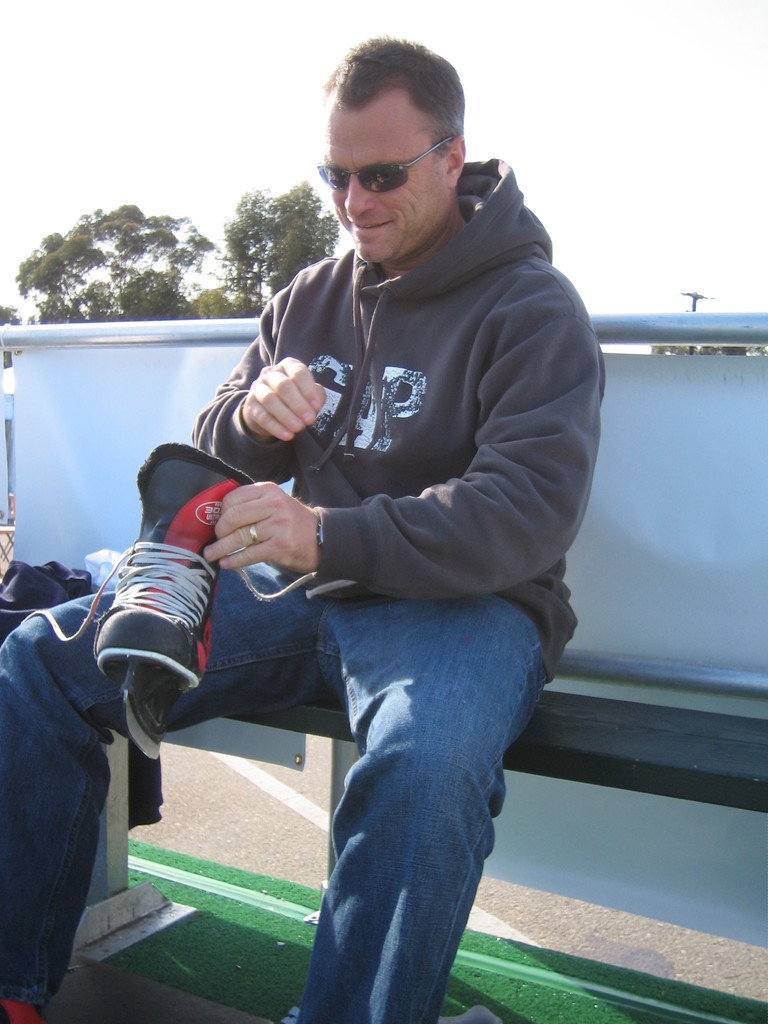Footwear: (23, 438, 317, 759)
